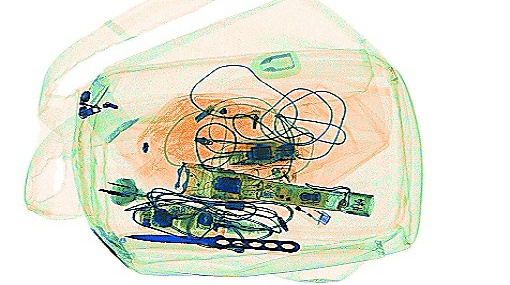knife: (123, 231, 300, 254)
lighter: (286, 188, 333, 228)
